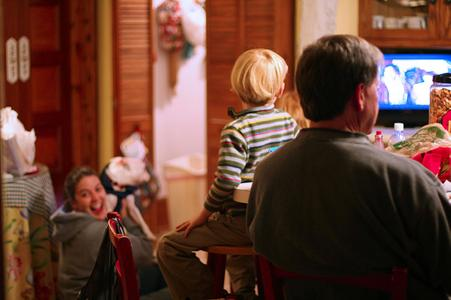person: (158, 49, 299, 299)
